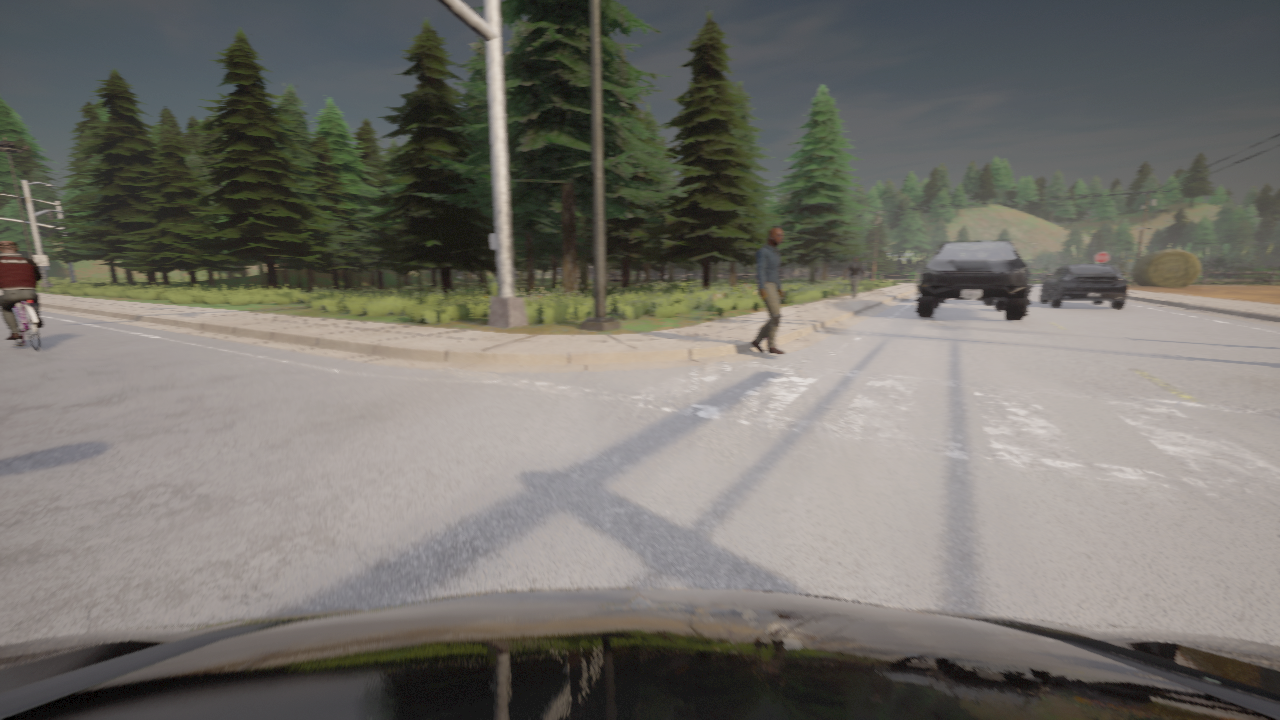cyclist: (0, 588, 1279, 719), (914, 240, 1032, 320), (1041, 264, 1127, 308), (14, 300, 39, 350), (940, 299, 994, 304)
pedestrian: (750, 227, 785, 354), (845, 256, 863, 298)
